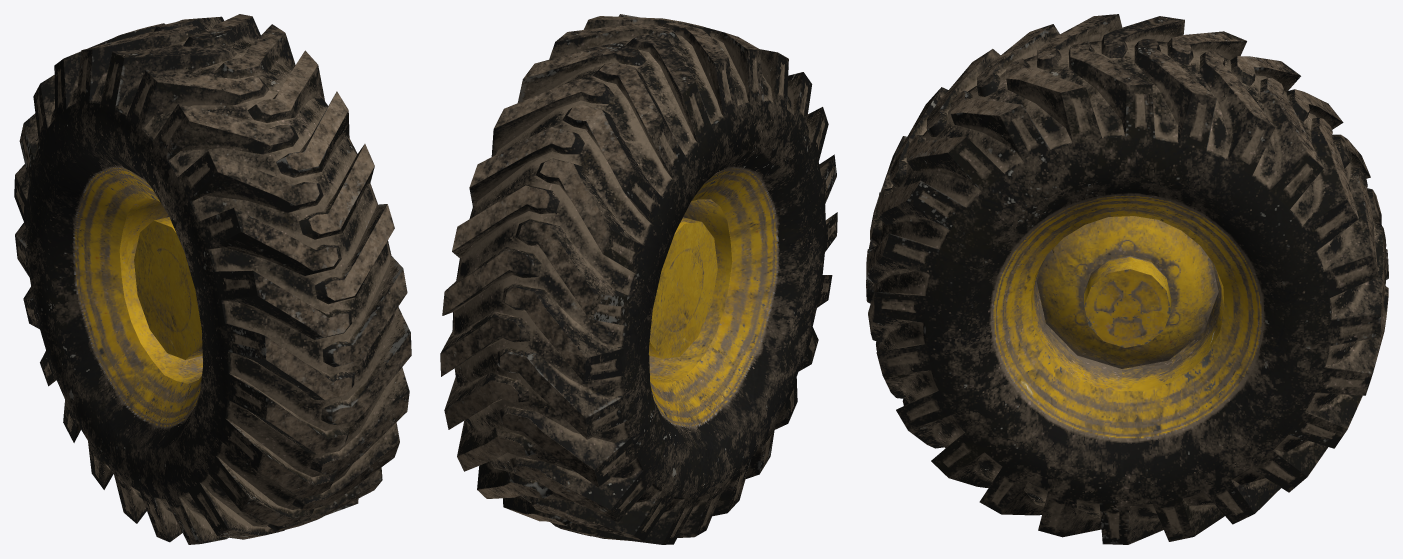
Rendered from Compactor_Tyre_01a_snaps005.fbx.
3 renders of one model, left to right at view 1: azimuth 30°, elevation 25°; view 2: azimuth 150°, elevation 25°; view 3: azimuth 270°, elevation 25°, orthographic.
Parts seen in each view (by area): view 1: Compactor_Tyre_01a_snaps005_LOD0; view 2: Compactor_Tyre_01a_snaps005_LOD0; view 3: Compactor_Tyre_01a_snaps005_LOD0.
Part boxes in pixels (box(x1,y1,x2,y2)): Compactor_Tyre_01a_snaps005_LOD0: box(14, 14, 411, 544); Compactor_Tyre_01a_snaps005_LOD0: box(440, 14, 837, 544); Compactor_Tyre_01a_snaps005_LOD0: box(866, 14, 1388, 544).
Size of what is drawn, in the model's own units: 64.25 by 161 by 161.
